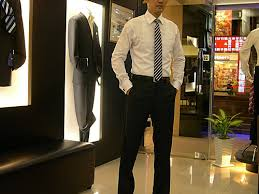F_dress pants: (119, 76, 178, 193)
F_shirt: (109, 10, 185, 96)
F_tie: (149, 17, 166, 87)
